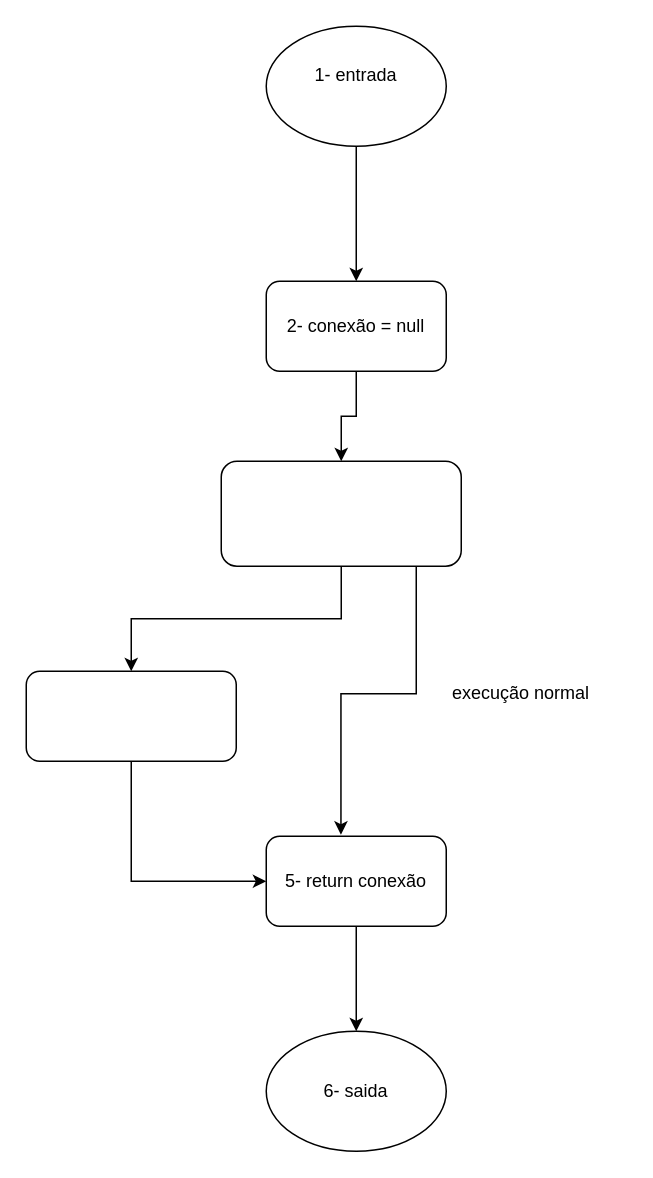
Some shapes in this 653 by 1178 pixel diagram are drawn without their labels. The shapes that lost their labels are listed below. From the top down, each one's centre as x and y in pixels, then its label:
(x=340, y=513): 3- try: definir URL e DriverManager.getConnection (url)
(x=130, y=715): 4- catch (Exception e): erro ignorado
